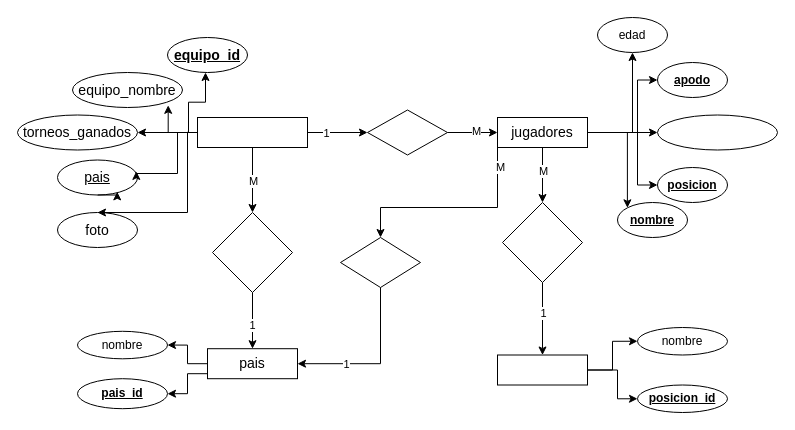
Image size: 795x430. Some labels were removed from this diagram. Here are the shapes that lost their labels. From the top down, the centre of each, then its label:
At (252,132): "equipos_torneo".
At (407,132): "Tiene".
At (717,132): "equipo_jugador_id".
At (252,252): "Pertence".
At (380,262): "Pertenece".
At (542,242): "Juega".
At (542,369): "posiciones".
